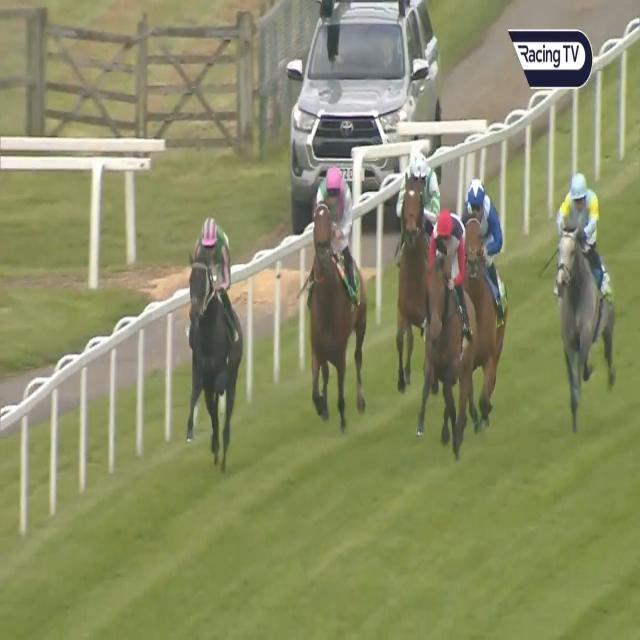horses-racing: (550, 174, 622, 431), (309, 165, 370, 418), (187, 212, 249, 460), (462, 178, 513, 432), (428, 205, 476, 450), (399, 151, 439, 360)
